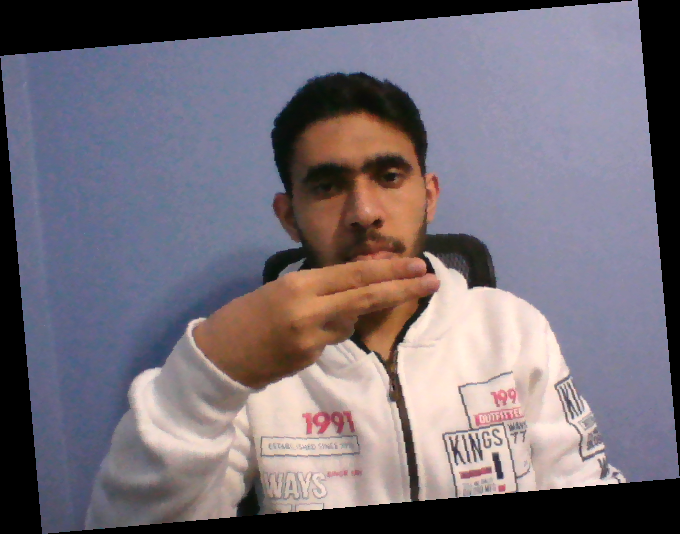H: (165, 256, 443, 405)
